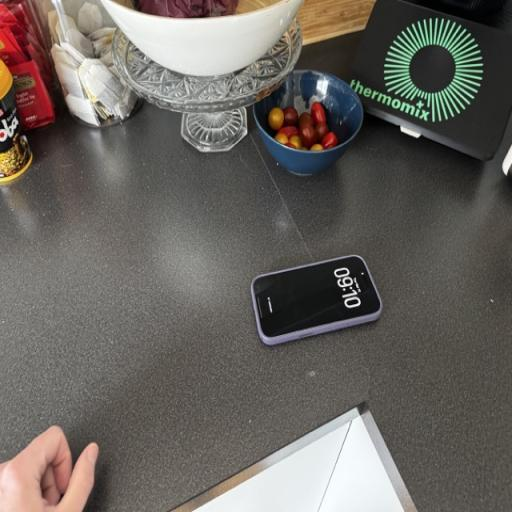phone: (248, 242, 410, 356)
